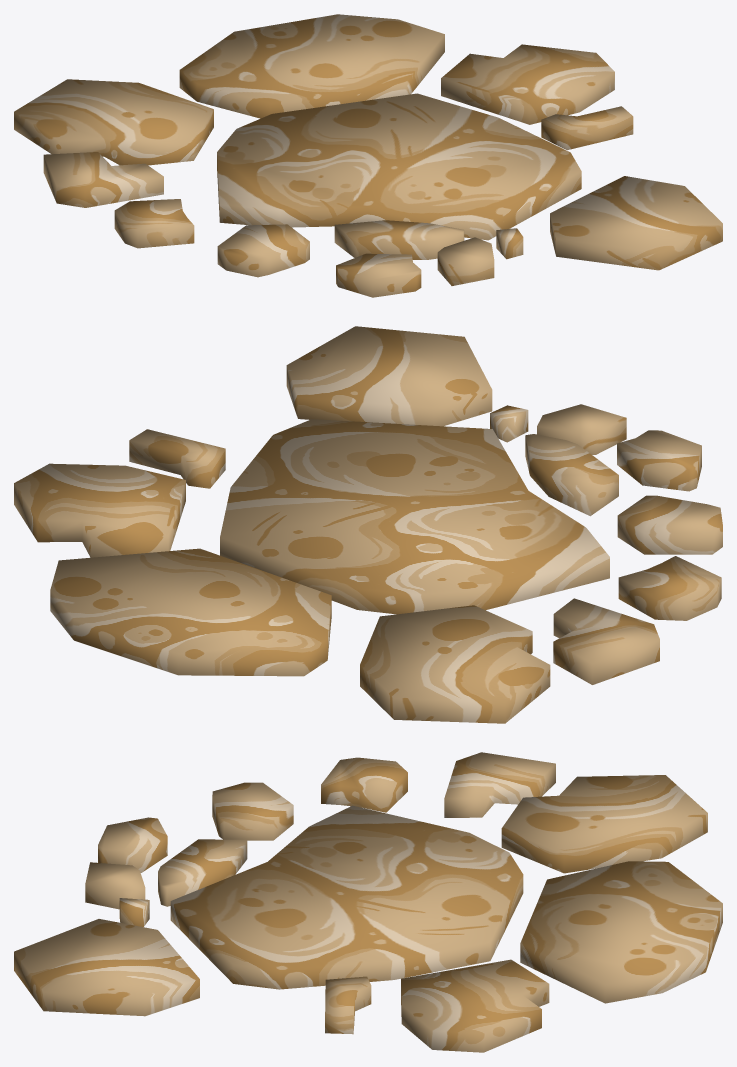
Rendered from SM_environment_rocks01_mar30.fbx.
3 renders of one model, top to bottom at view 1: azimuth 30°, elevation 25°; view 2: azimuth 150°, elevation 25°; view 3: azimuth 270°, elevation 25°, orthographic. The views are drawn at different scales.
Parts seen in each view (by area): view 1: SM_environment_rocks01; view 2: SM_environment_rocks01; view 3: SM_environment_rocks01.
Part boxes in pixels (x1=…): SM_environment_rocks01: x1=14, y1=14, x2=722, y2=297; SM_environment_rocks01: x1=14, y1=326, x2=722, y2=723; SM_environment_rocks01: x1=14, y1=752, x2=722, y2=1052.
Size of the model in its own units: 1895 by 60.21 by 2018.
